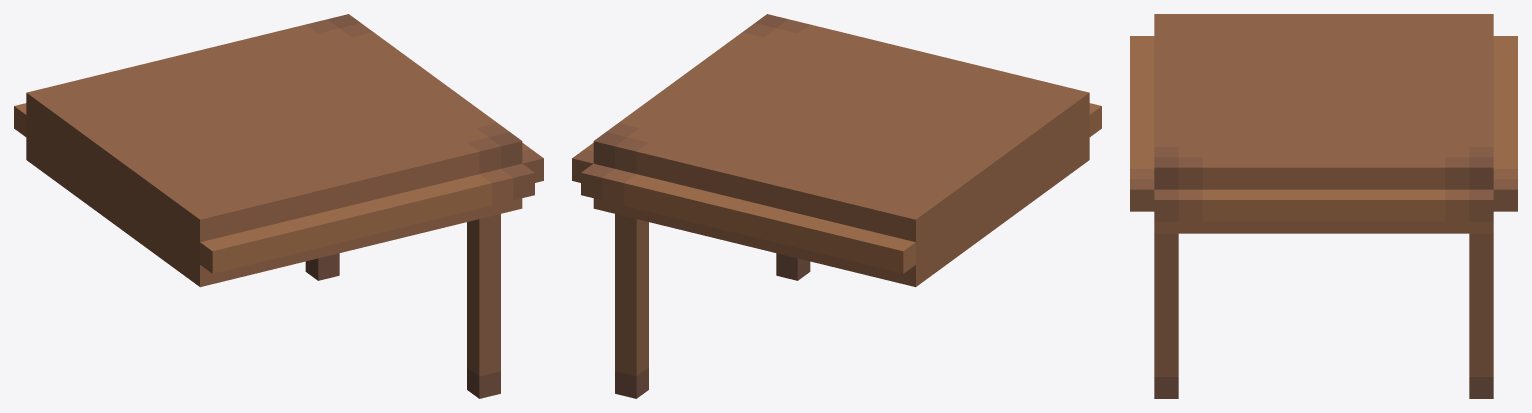
File: Interior_Furniture_Table_Piece_Long_Type01_03.obj
The picture shows the model from 3 angles, left to right: view 1: azimuth 30°, elevation 25°; view 2: azimuth 150°, elevation 25°; view 3: azimuth 270°, elevation 25°; orthographic projection. The views are drawn at different scales.
Bounding box in the file's own units: 1.6 × 1.1 × 1.6.
1 material, 1 textured.
